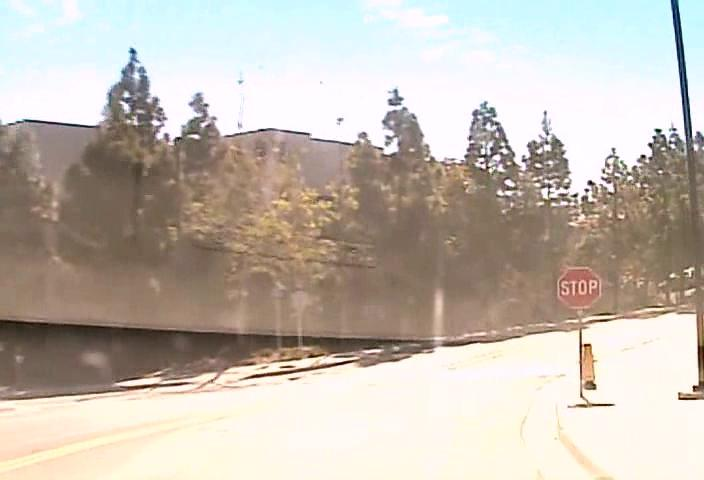stop: (557, 266, 601, 309)
